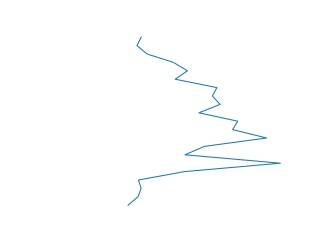floodSwamp: (121, 33, 285, 207)
